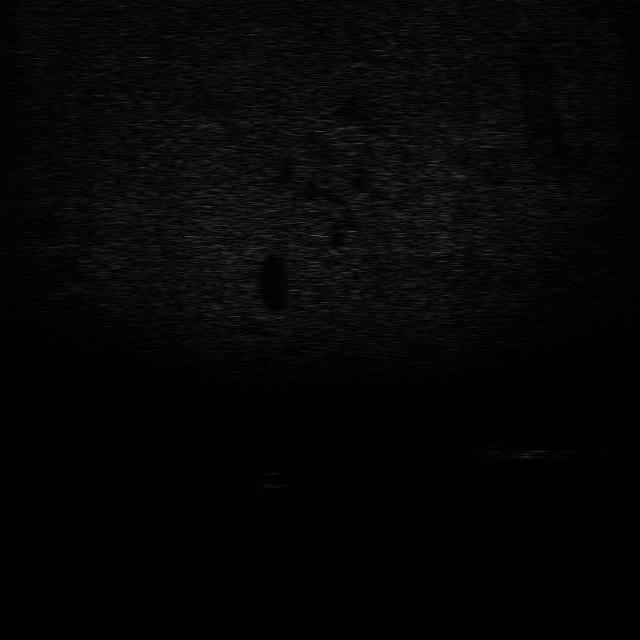ball: (252, 468, 296, 491)
human body: (478, 436, 584, 462)
